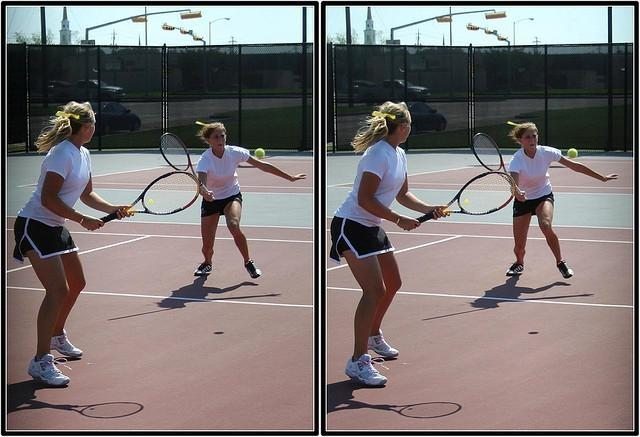car: (89, 102, 143, 140), (407, 102, 448, 135)
truck: (54, 79, 125, 106), (358, 80, 432, 102)
